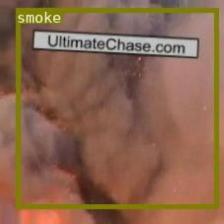smoke: (15, 7, 217, 208)
